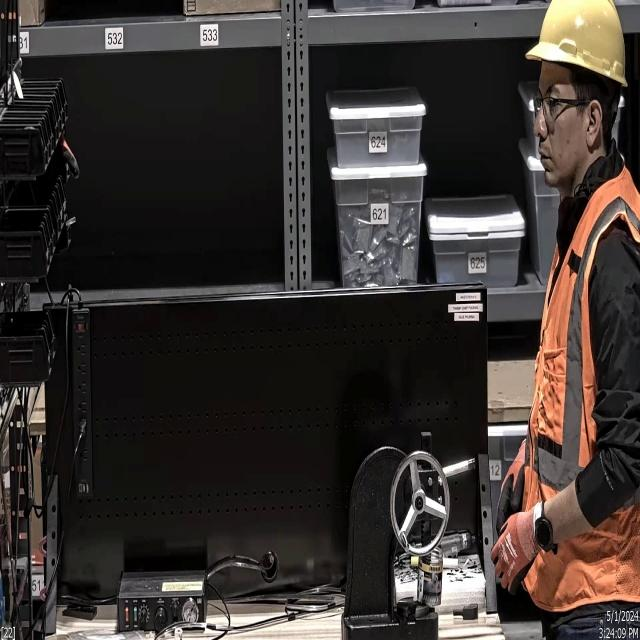gloves: (492, 432, 532, 540), (490, 507, 540, 588)
